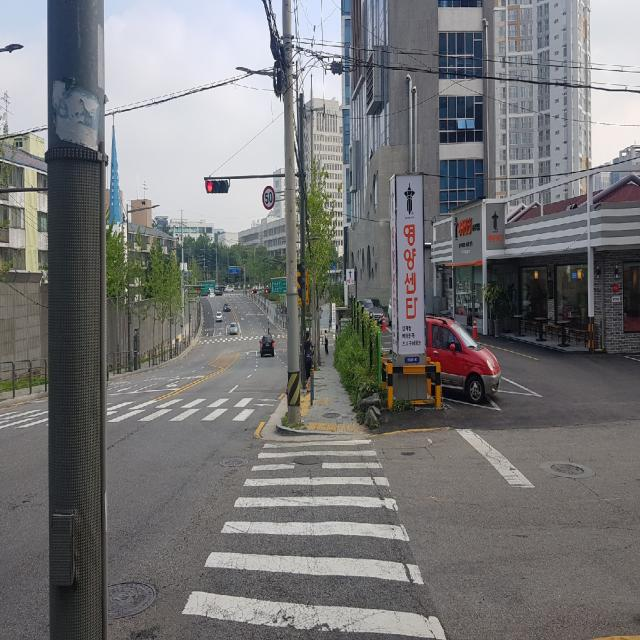횡단보도: (181, 439, 446, 640), (110, 393, 266, 421)
